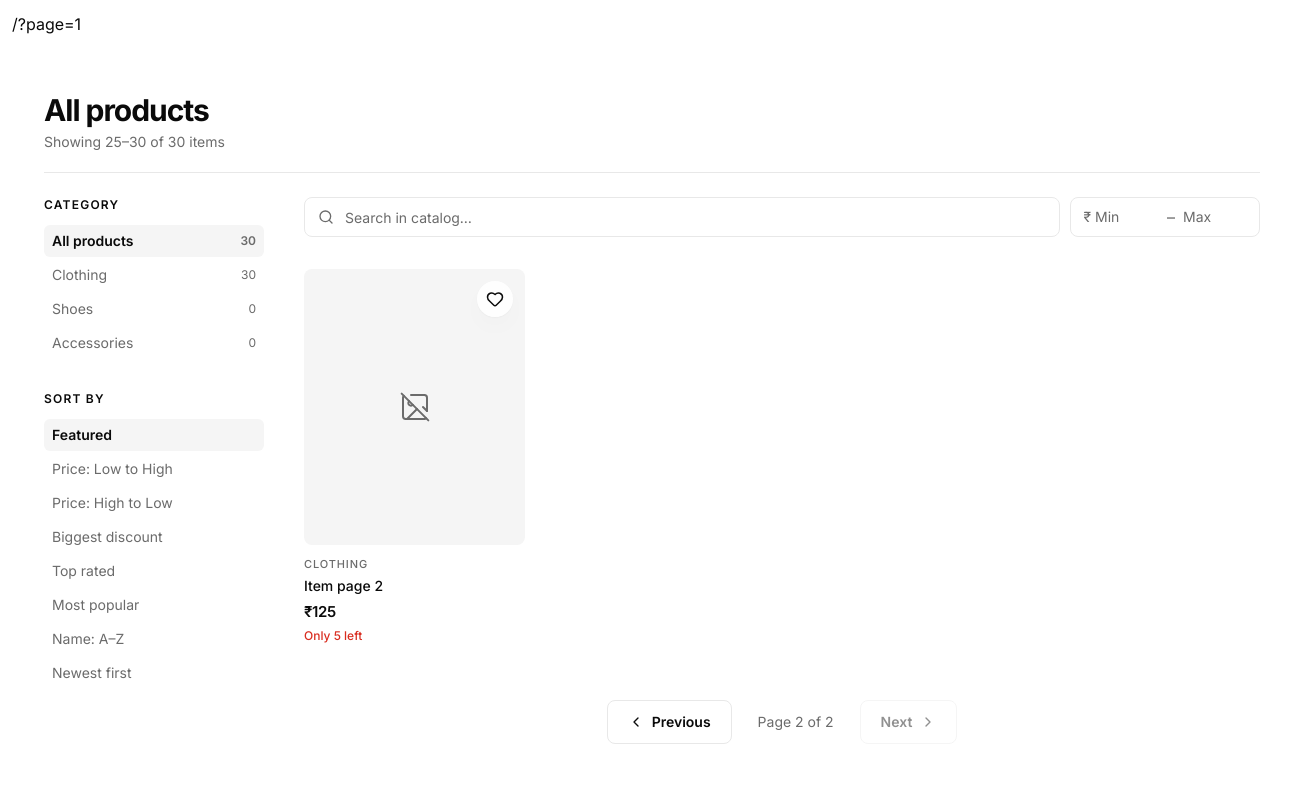
Test case: server-side catalog search › debounces typing into a single search request and resets to page 1
The image size is (1292, 812).
Check: the text "Page 2 of 2" is shown, box x1=758 y1=713 x2=834 y2=730
Type "l" into the field named "Search catalog".
click(682, 217); type("l")  # box x1=304 y1=197 x2=1060 y2=237
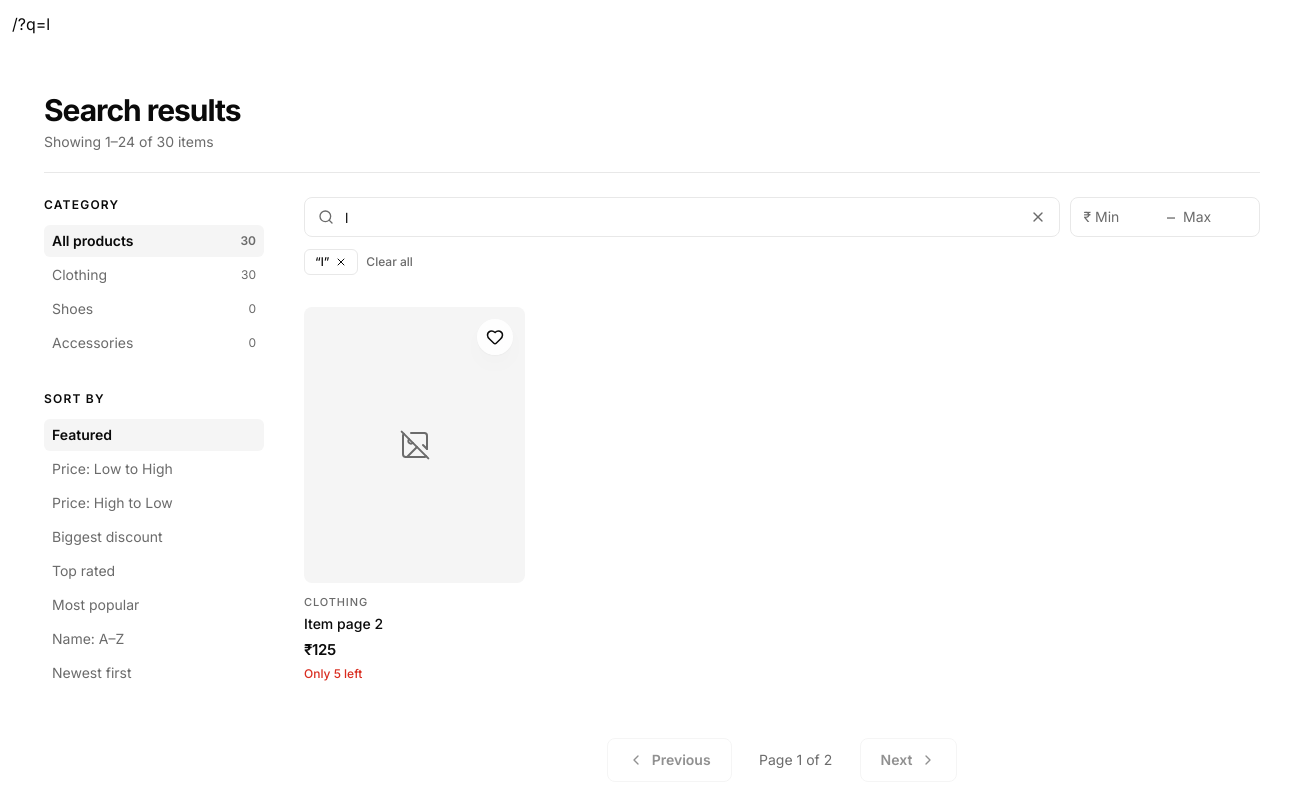
Replace the text in the field named "Search catalog" with "la" at (682, 217), box x1=304 y1=197 x2=1060 y2=237
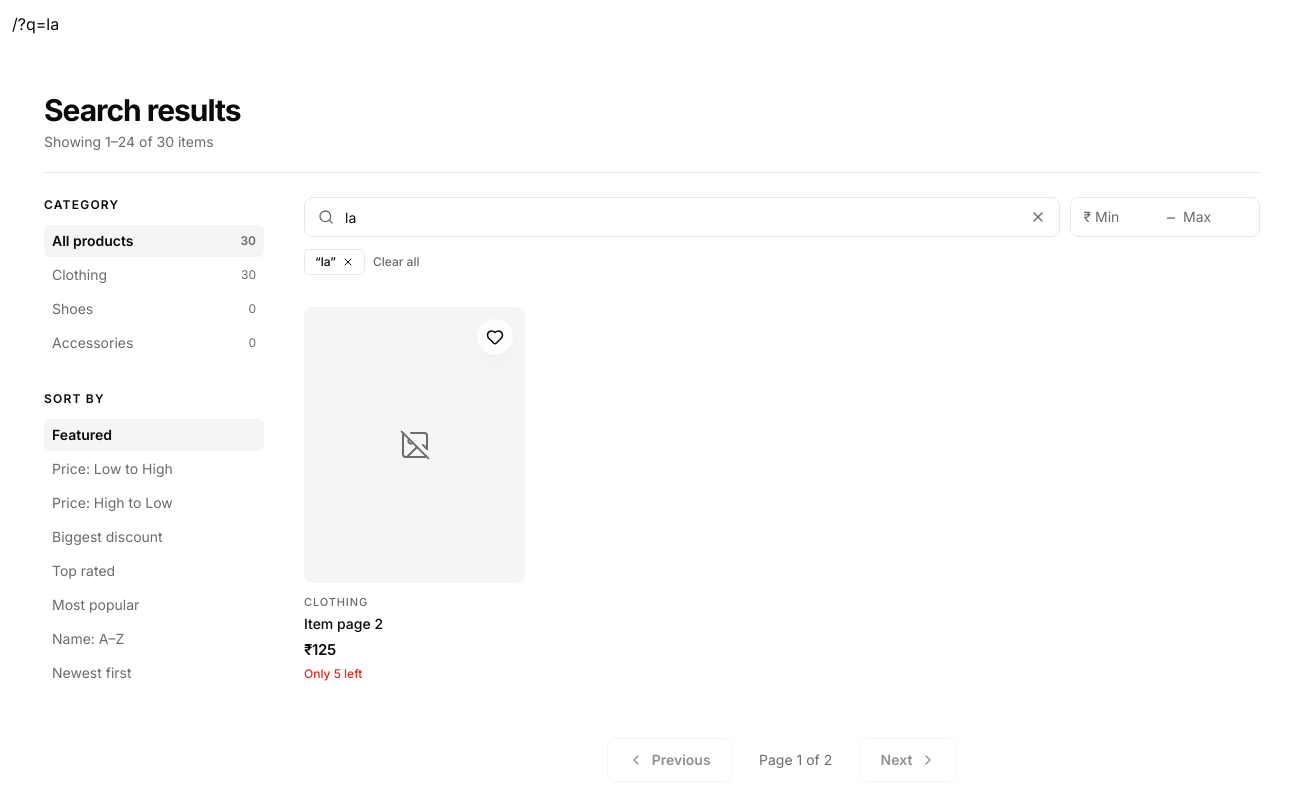
Replace the text in the field named "Search catalog" with "lap" at (682, 217), box x1=304 y1=197 x2=1060 y2=237
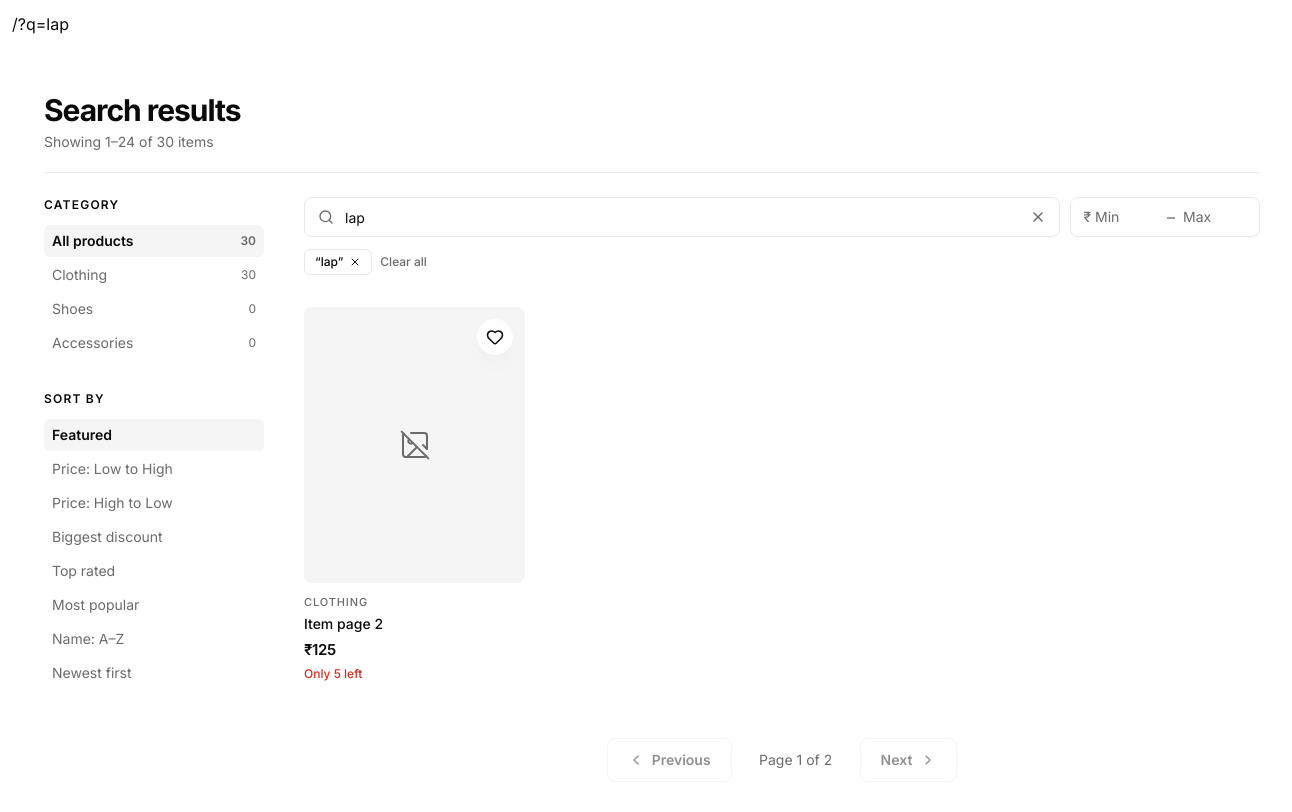
Replace the text in the field named "Search catalog" with "lapt" at (682, 217), box x1=304 y1=197 x2=1060 y2=237
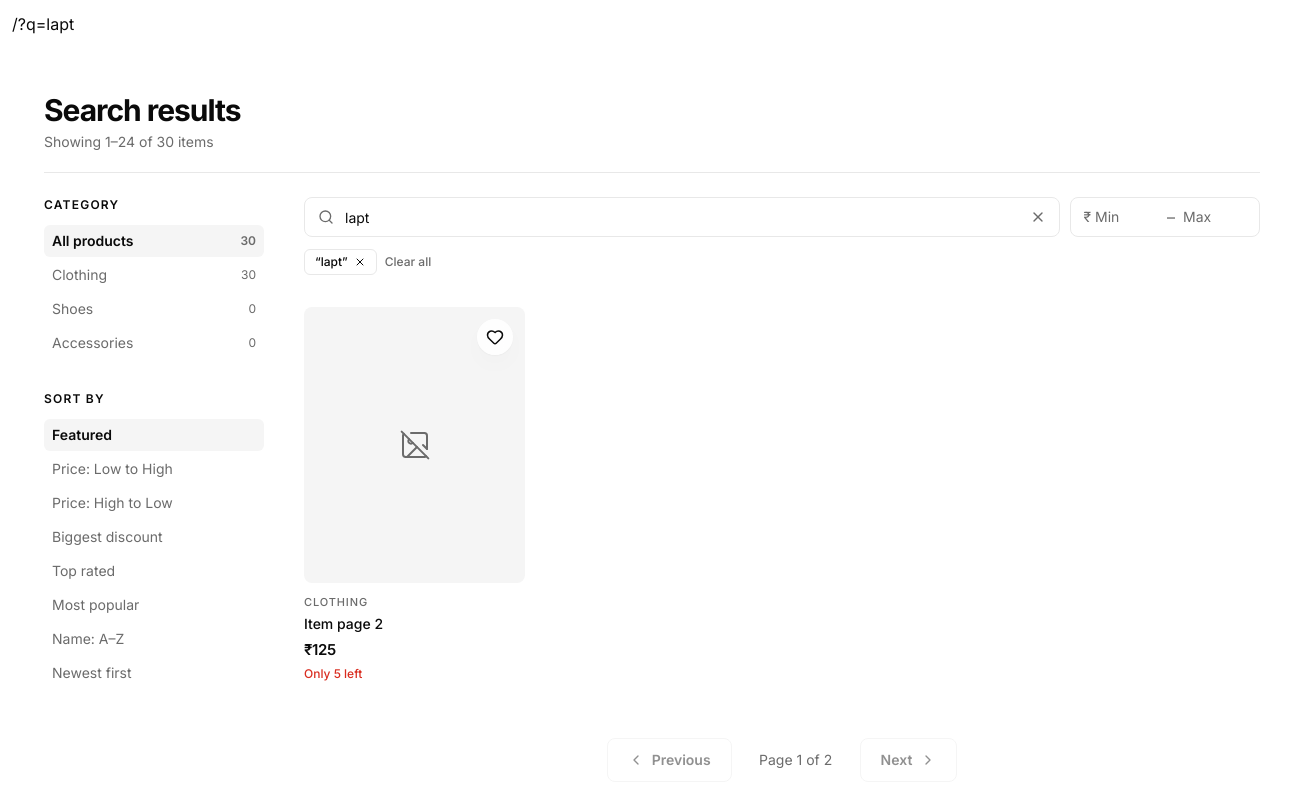
Replace the text in the field named "Search catalog" with "laptop" at (682, 217), box x1=304 y1=197 x2=1060 y2=237
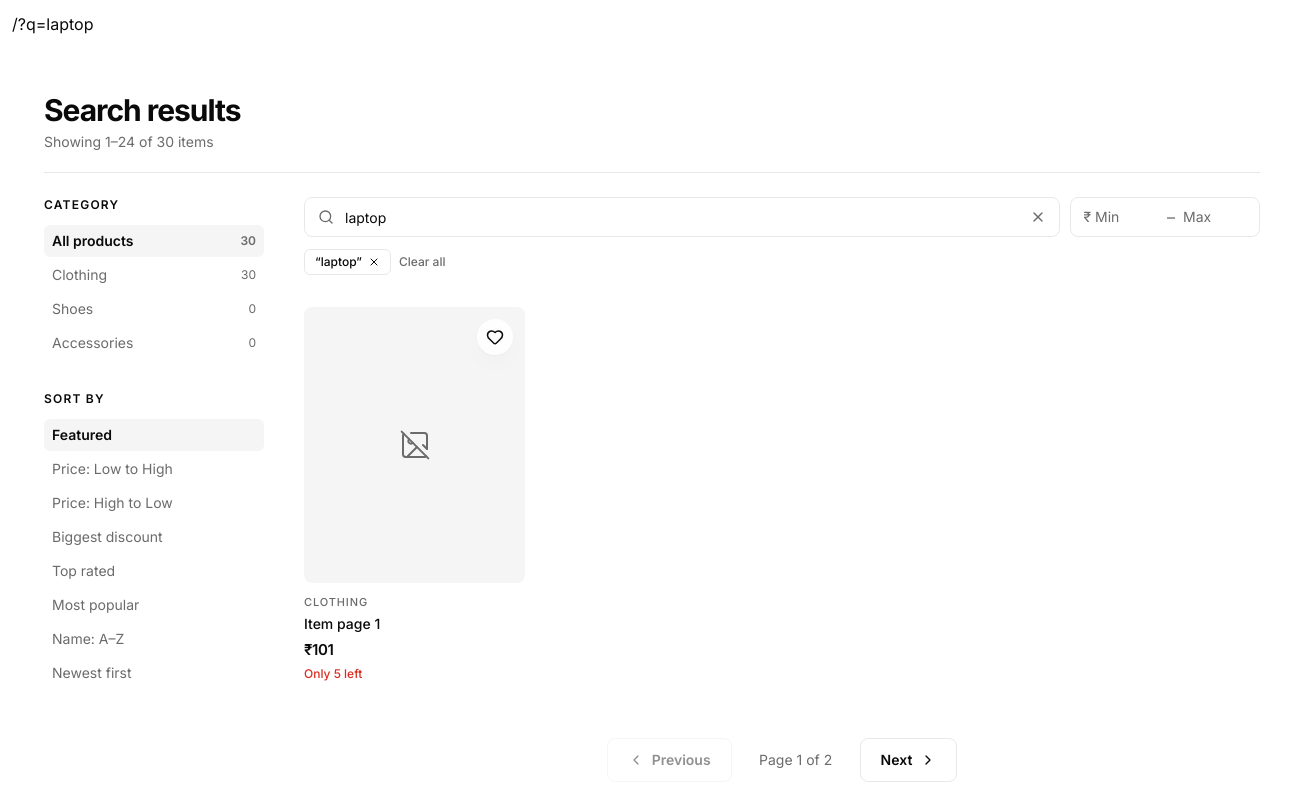
Check: the text with test id "location" reads "/?q=laptop", box x1=12 y1=14 x2=94 y2=34
